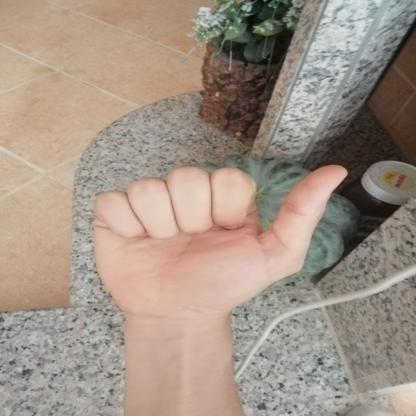DAD: (72, 152, 364, 336)
